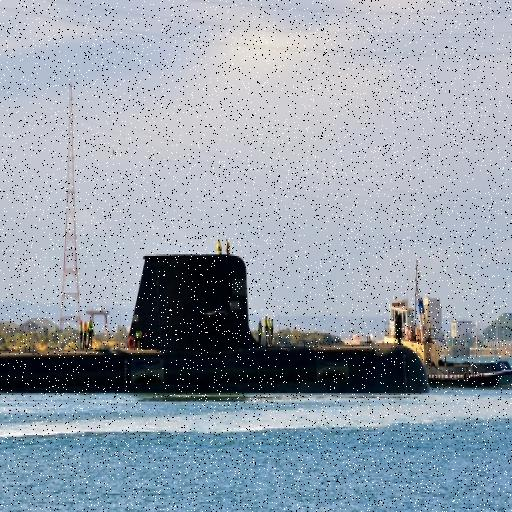submarine: (1, 254, 467, 388)
